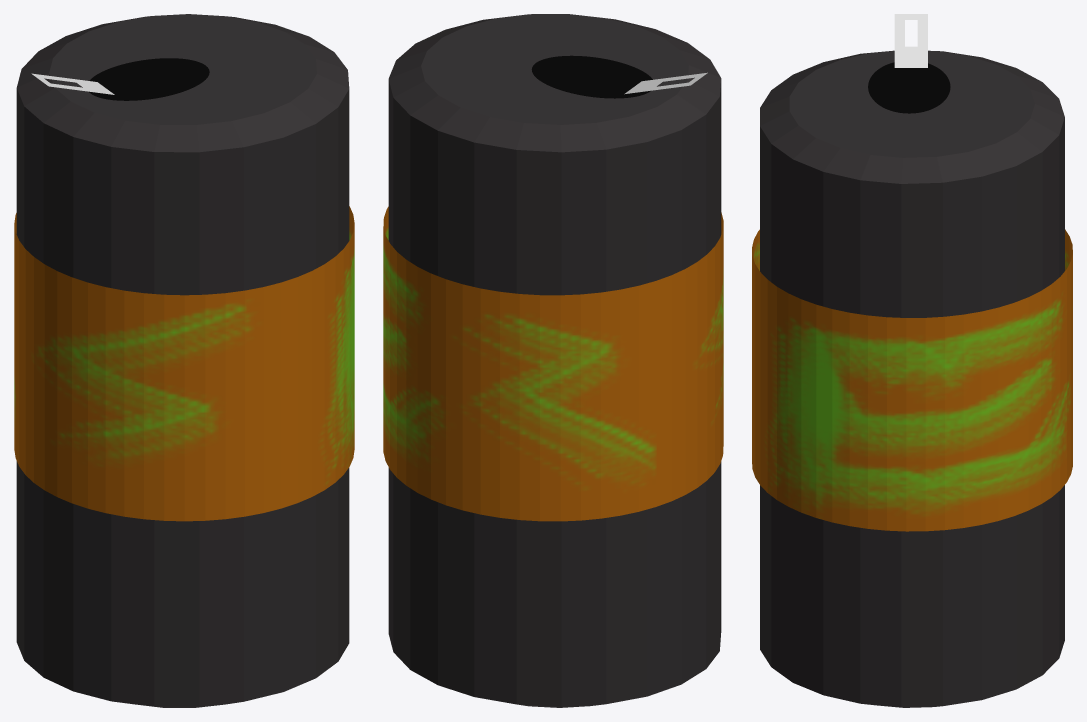
Rendered from Can.fbx.
3 views of the same model, side by side, from view 1: azimuth 30°, elevation 25°; view 2: azimuth 150°, elevation 25°; view 3: azimuth 270°, elevation 25° (orthographic). The views are drawn at different scales.
Parts seen in each view (by area): view 1: Cylinder, Circle.001, Circle, Plane; view 2: Cylinder, Circle.001, Circle, Plane; view 3: Cylinder, Circle.001, Circle, Plane.
Boxes of the visible parts, left/top/right/bottom form: Cylinder: left=16, top=14, right=349, bottom=707; Circle.001: left=14, top=206, right=354, bottom=521; Circle: left=89, top=58, right=209, bottom=100; Plane: left=31, top=73, right=114, bottom=94; Cylinder: left=388, top=14, right=721, bottom=707; Circle.001: left=383, top=206, right=723, bottom=521; Circle: left=531, top=55, right=652, bottom=98; Plane: left=624, top=72, right=707, bottom=94; Cylinder: left=760, top=50, right=1064, bottom=707; Circle.001: left=752, top=229, right=1072, bottom=531; Circle: left=868, top=62, right=950, bottom=113; Plane: left=894, top=14, right=927, bottom=67.
Size of the model in its own units: 1.04 by 1.04 by 2.08.
3 materials, 1 textured.
